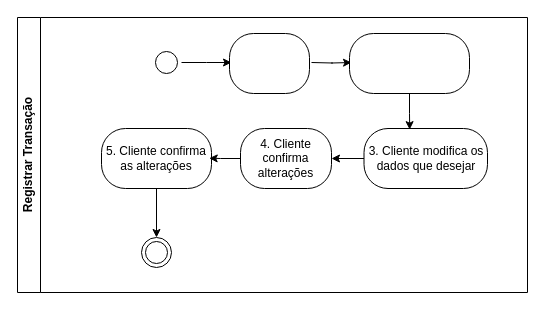
Image size: 545x310. Some labels were removed from this diagram. Each missing label, with the centre of its shape:
"1. Cliente acessa o aplicativo" belongs at point 269,63.
"2. Cliente acessa a página de perfil" belongs at point 409,63.
